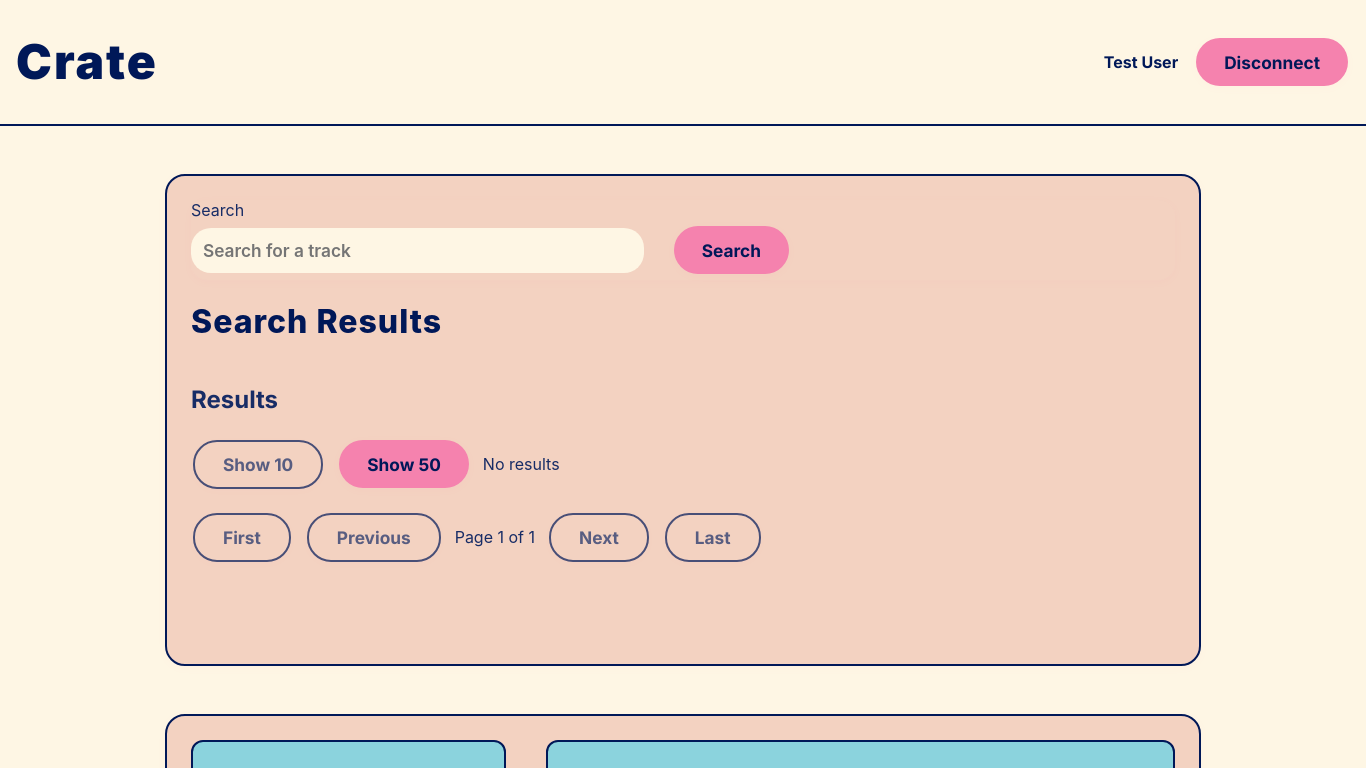
it: App integration › shows server error when Spotify.search returns 5xx
Expected: the text "Test User" is shown, [1104,52,1178,72]
Step 1. Type "servererror" into the search field with placeholder "Search for a track" → point(417, 250), box [191,228,644,272]
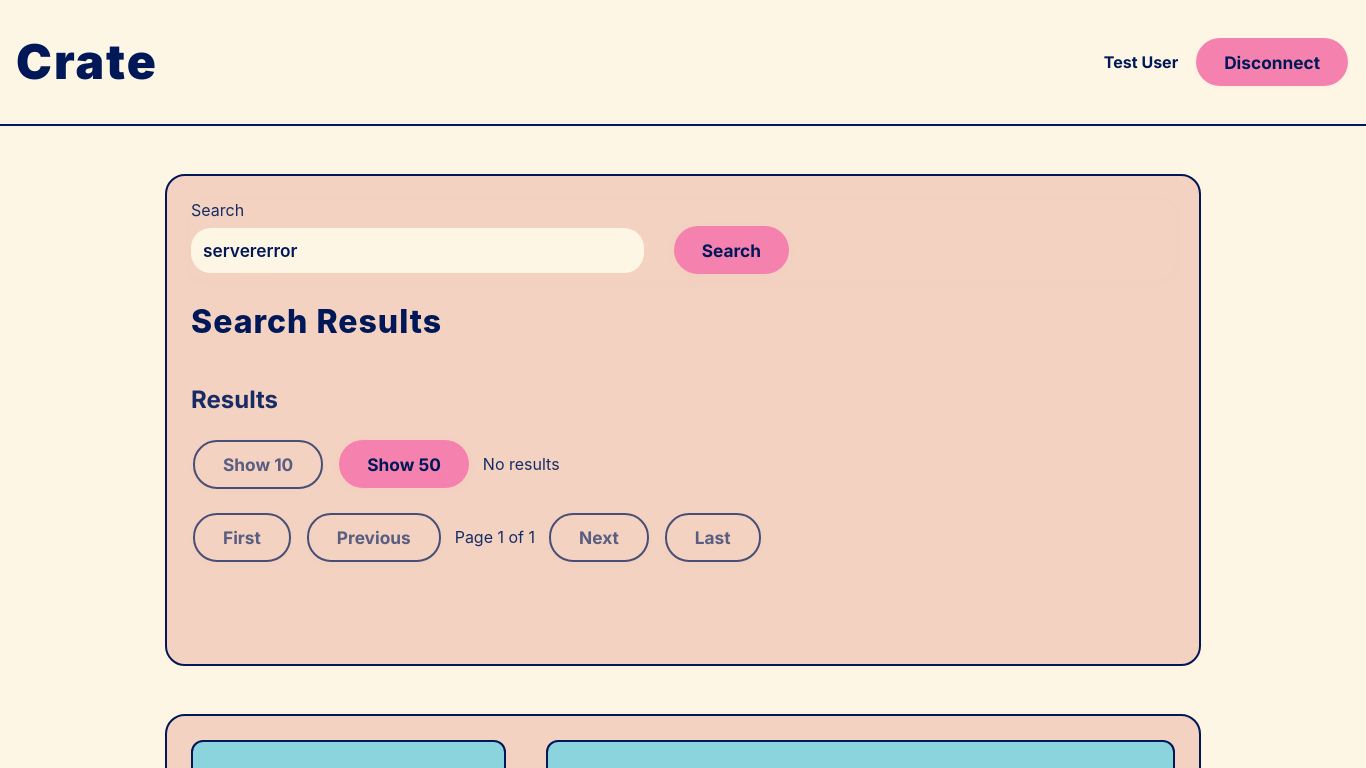
Step 2. Press Enter in the search field with placeholder "Search for a track", box [191,228,644,272]
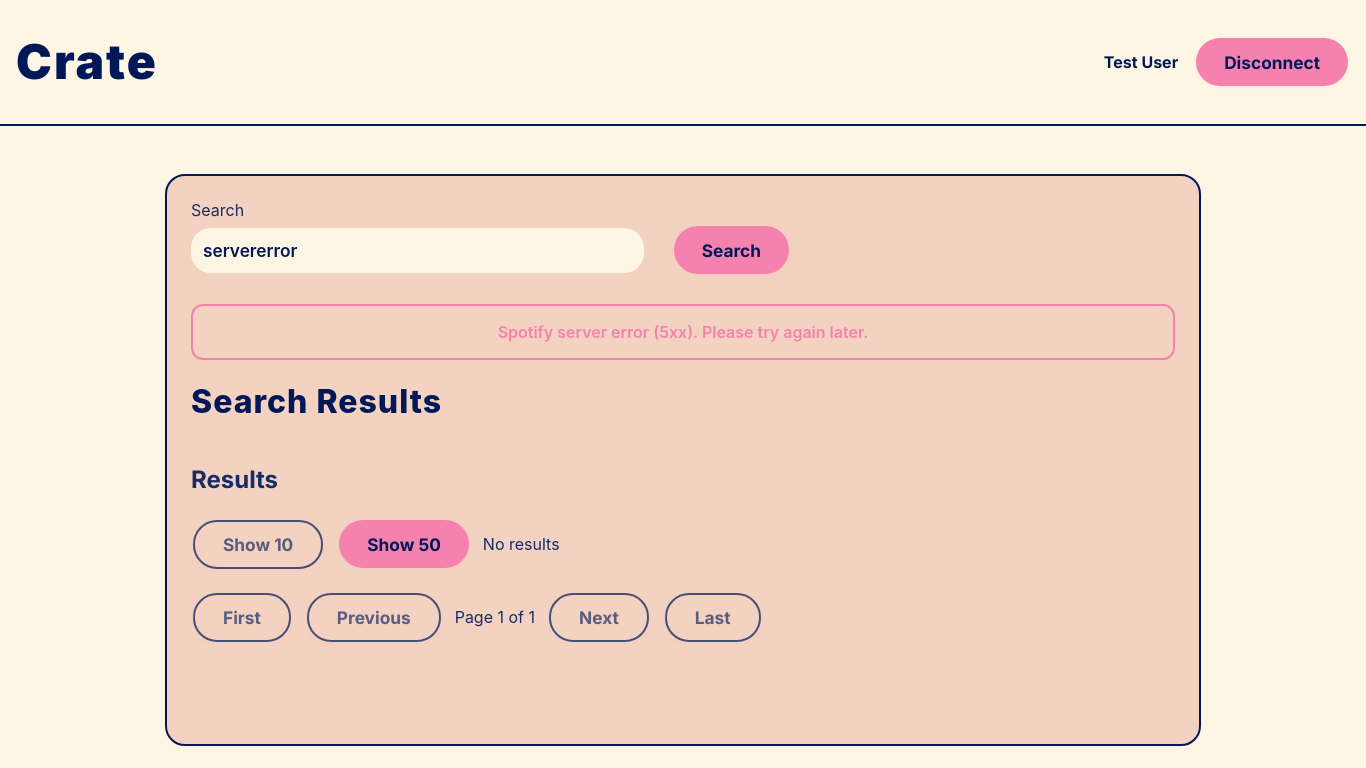
Expected: the message "Spotify server error (5xx). Please try again later." is shown, [191,304,1175,360]
Expected: the message shows "server error", [498,322,868,342]
